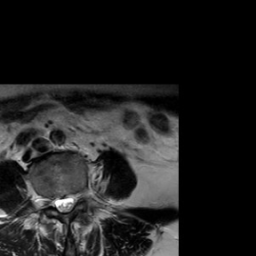CCS_normal: (61, 186, 67, 221)
LFS_normal: (76, 181, 84, 207)
LLS_normal: (67, 185, 76, 214)
RFS_normal: (44, 186, 53, 214)
RLS_normal: (53, 186, 61, 216)
